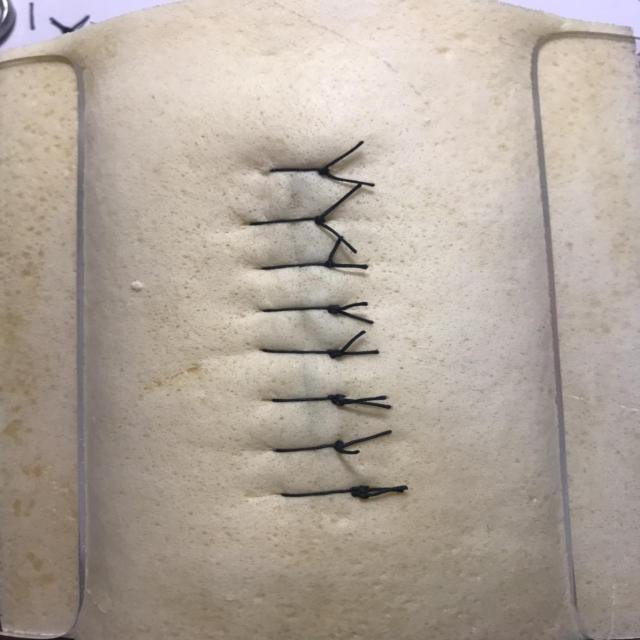knot: (351, 487, 369, 499), (327, 396, 344, 406), (328, 350, 344, 358), (332, 441, 344, 451), (328, 306, 342, 314), (314, 216, 325, 225), (318, 168, 328, 175), (324, 261, 335, 267)
leftover: (314, 182, 364, 221), (314, 217, 358, 255), (318, 139, 365, 172), (319, 168, 377, 188), (333, 429, 394, 448), (337, 329, 367, 354), (336, 396, 393, 409), (354, 484, 409, 497), (333, 308, 375, 325), (325, 234, 345, 266), (334, 395, 388, 403), (334, 301, 369, 312), (330, 443, 362, 455), (355, 487, 405, 494), (325, 262, 371, 269), (337, 349, 381, 355)
stitch: (278, 488, 370, 498), (273, 442, 345, 453), (247, 216, 326, 226), (258, 261, 337, 271), (260, 305, 343, 313), (259, 347, 347, 354), (269, 396, 345, 403), (266, 167, 331, 173)
wound: (284, 153, 323, 523)
